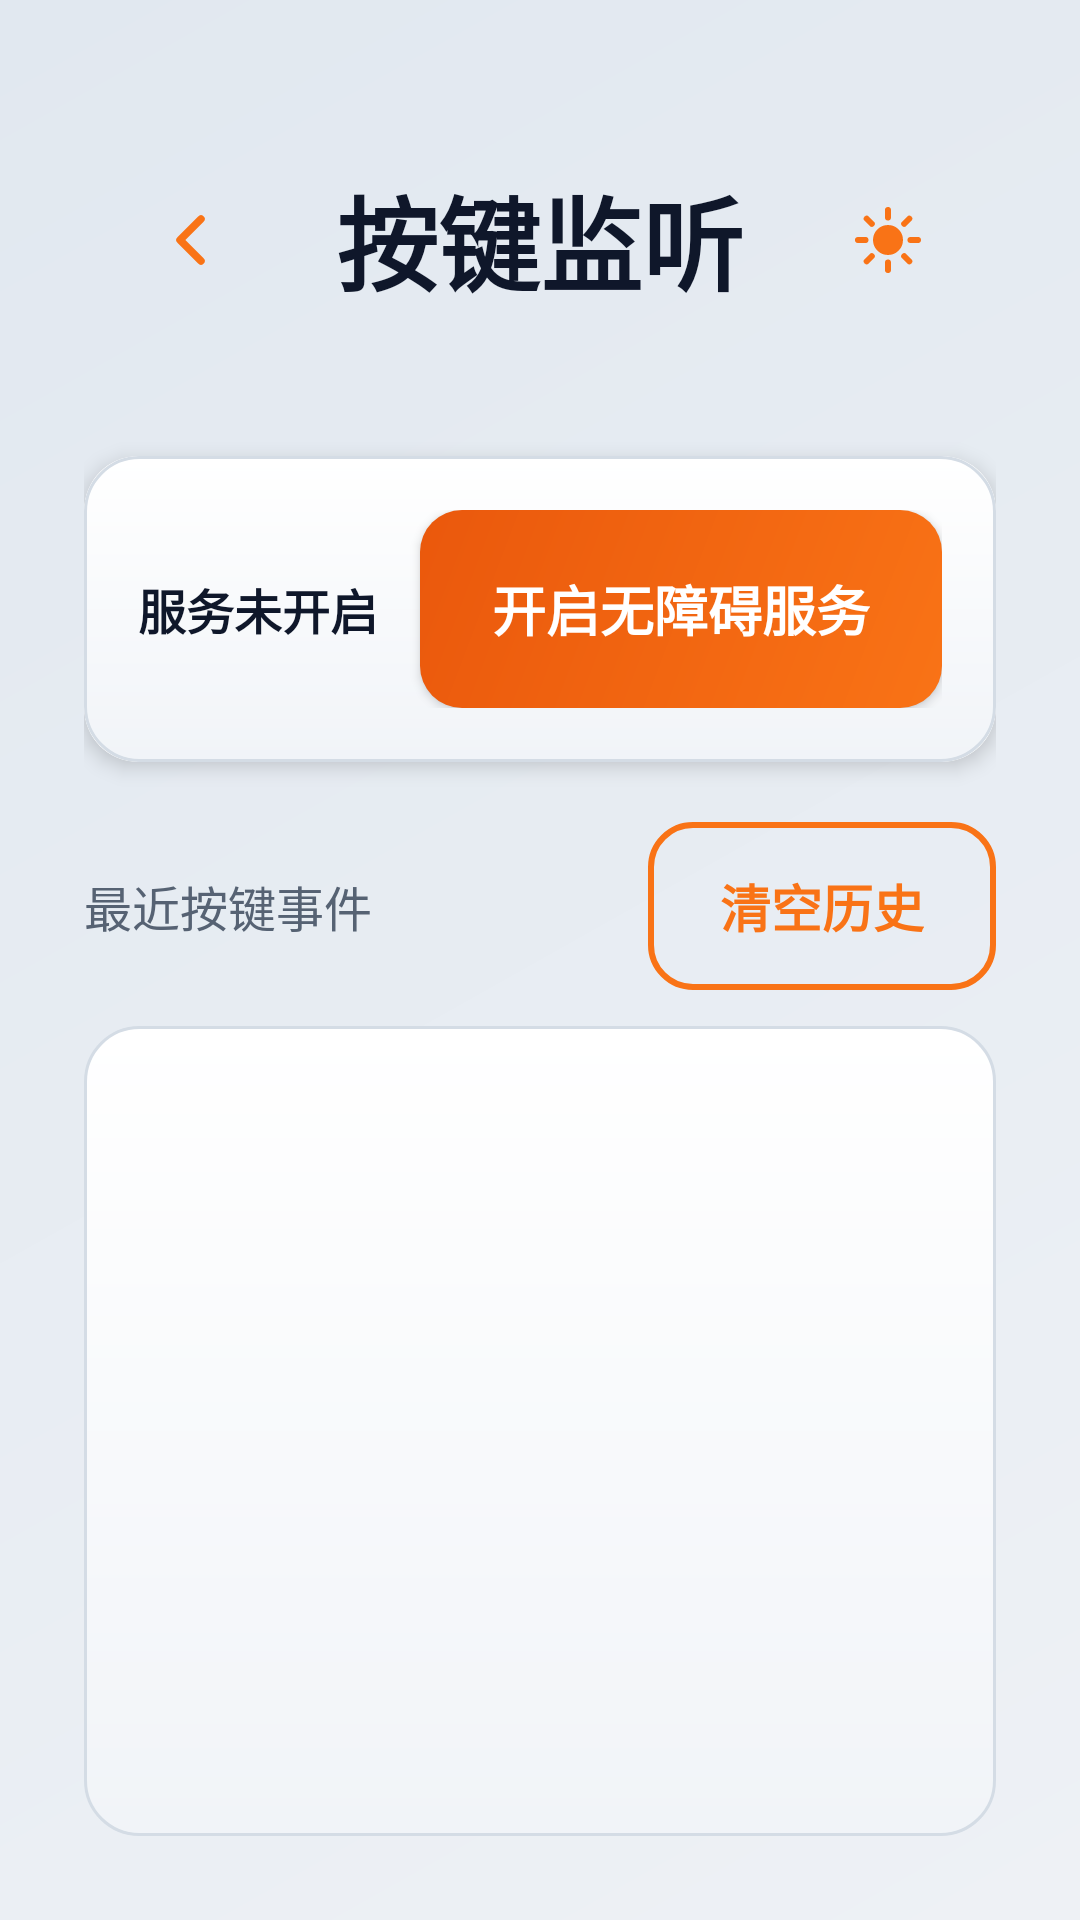

Icons on this 1080px x 1920px Android screen, each with its box as (x1, y1, x2, y2):
切换昼夜: (855, 207, 921, 273)
返回: (176, 215, 205, 265)
